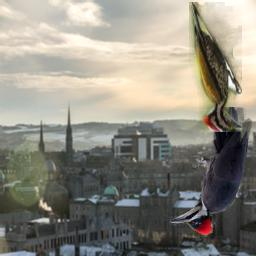Woodpecker: (169, 107, 252, 237), (189, 2, 242, 132)
